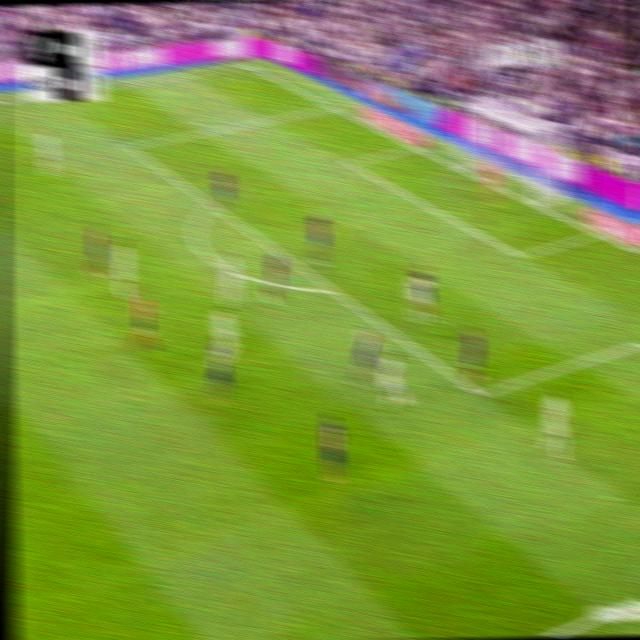bigarea_bottom_inner: (471, 383, 489, 405)
bigarea_top_inner: (122, 136, 137, 155)
bigarea_top_outter: (322, 98, 337, 112)
bottom_arc_area_intersection: (323, 278, 340, 298)
corner: (239, 58, 254, 69)
smallarea_top_inner: (343, 155, 356, 170)
top_arc_area_intersection: (203, 194, 220, 212)
